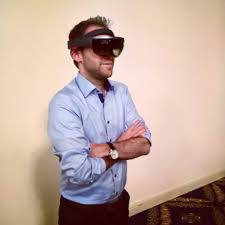hololens: (67, 35, 125, 60)
